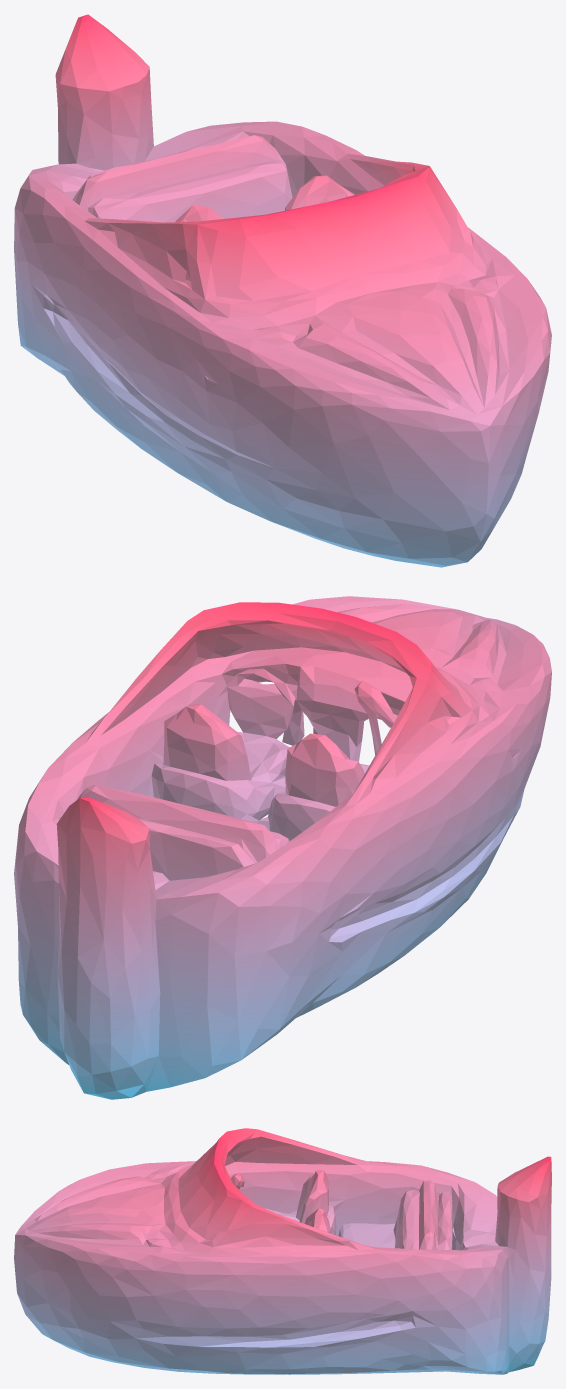
The model's file is 63_cyb_laser_gradient_fish_scales_2941_2026_10_03_e84d4d.glb.
3 renders of one model, top to bottom at view 1: azimuth 30°, elevation 25°; view 2: azimuth 150°, elevation 25°; view 3: azimuth 270°, elevation 25°, orthographic. The views are drawn at different scales.
Visible parts, largest first — view 1: geometry_0; view 2: geometry_0; view 3: geometry_0.
Boxes of the visible parts, <box> form: geometry_0: <box>14,14,551,567</box>; geometry_0: <box>14,596,551,1099</box>; geometry_0: <box>14,1128,551,1374</box>.
Size of the model in its own units: 0.4531 by 0.4211 by 0.9998.
